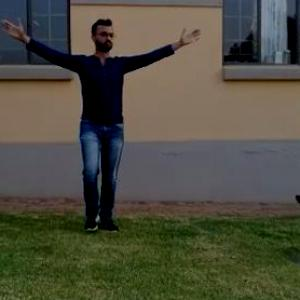takeoff: (0, 0, 209, 241)
